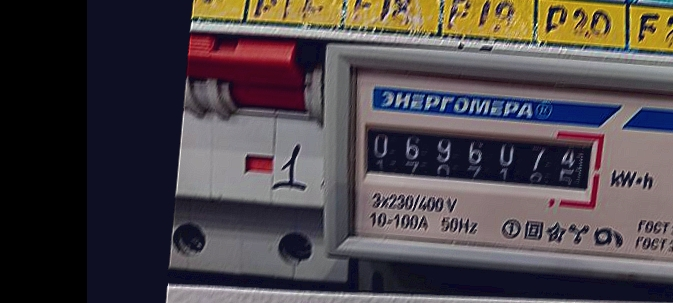0: (373, 130, 394, 157), (499, 139, 519, 166)
4: (562, 143, 580, 167)
5: (560, 166, 577, 188)
6: (467, 136, 488, 164), (405, 132, 425, 159)
7: (531, 143, 549, 170)
9: (437, 134, 455, 161)
screen: (352, 109, 611, 211)
